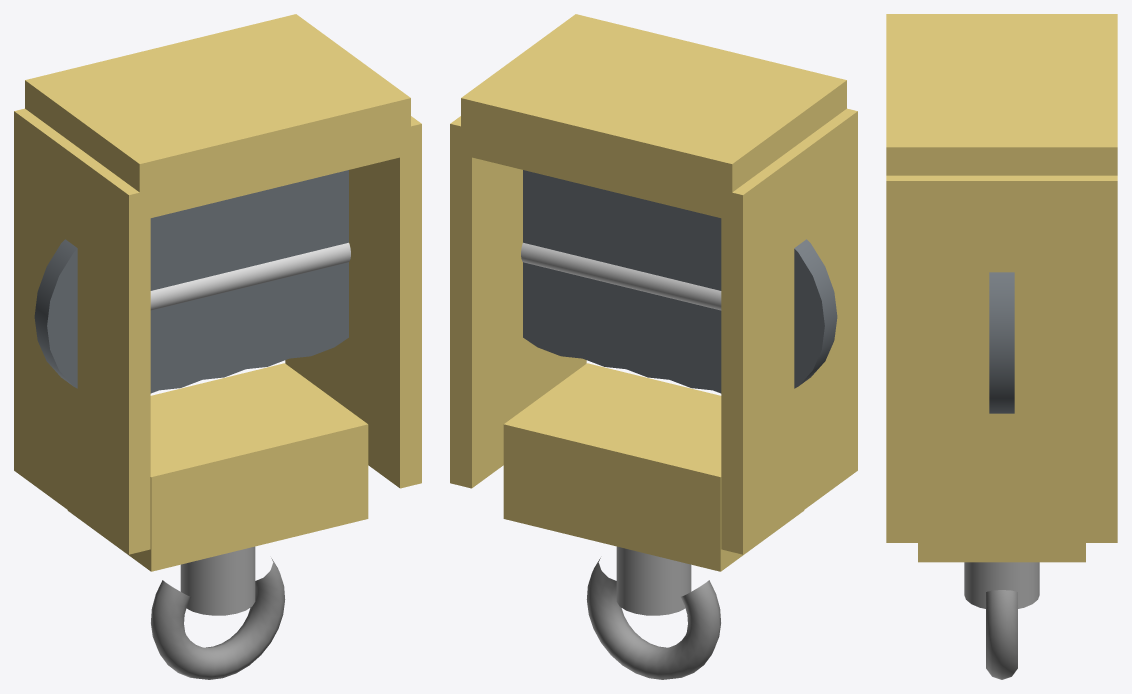
The model's file is travel.glb.
The picture shows the model from 3 angles, left to right: view 1: azimuth 30°, elevation 25°; view 2: azimuth 150°, elevation 25°; view 3: azimuth 270°, elevation 25°; orthographic projection.
Size of the model in its own units: 1.96 by 3.11 by 1.1.
